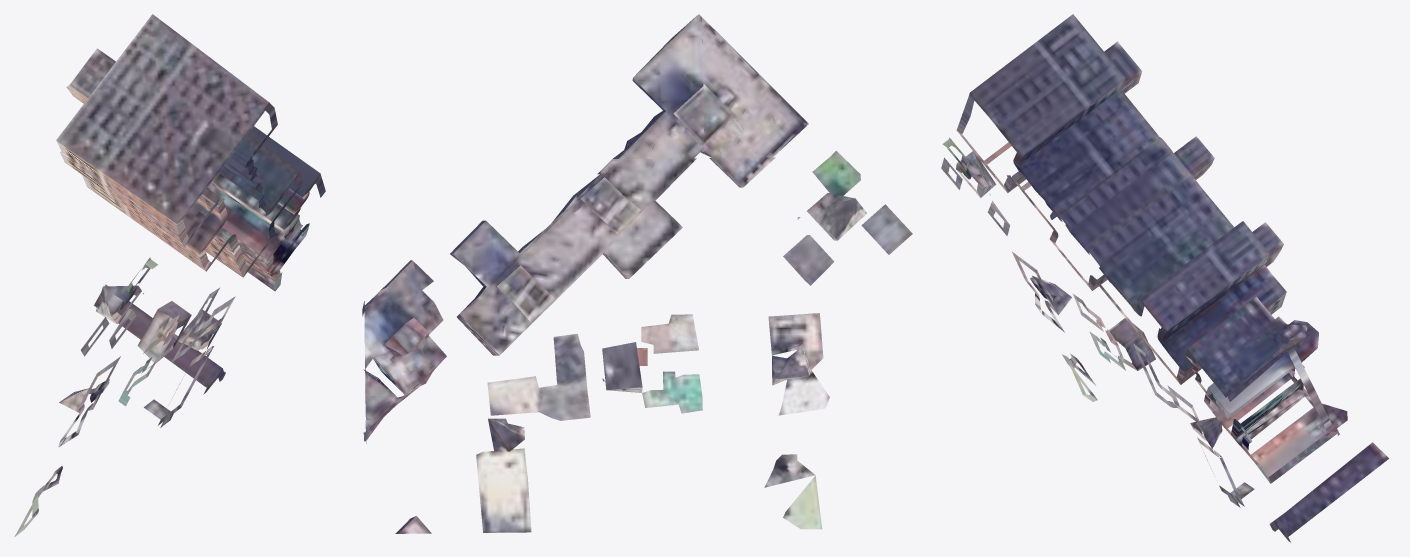
3 renders of one model, left to right at view 1: azimuth 30°, elevation 25°; view 2: azimuth 150°, elevation 25°; view 3: azimuth 270°, elevation 25°, orthographic. The views are drawn at different scales.
Size of the model in its own units: 92.98 by 110 by 102.
1 material, 1 textured.
